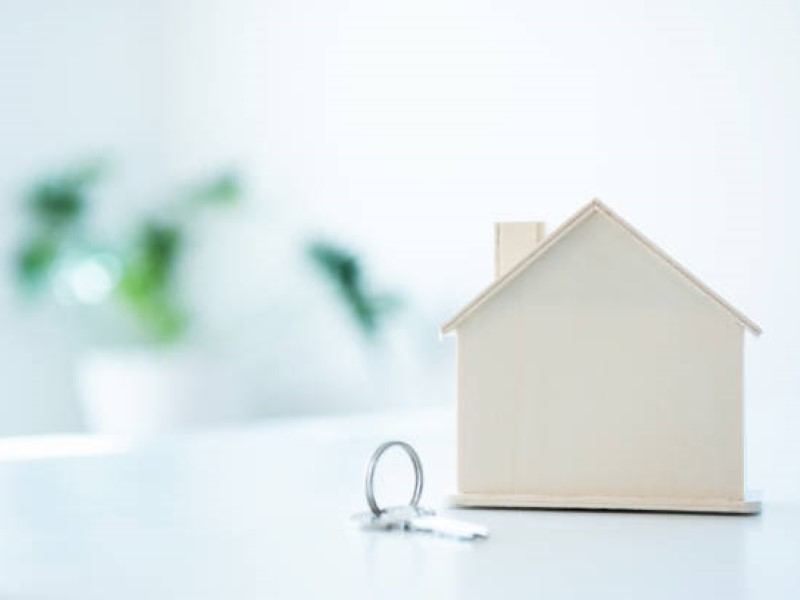key: (350, 501, 497, 549)
